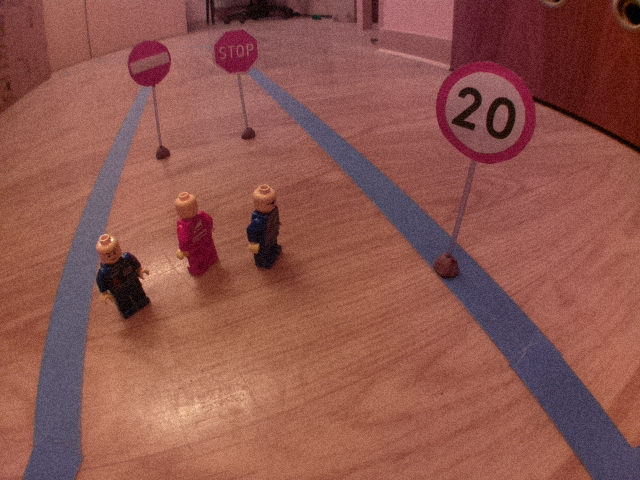LEGO_person: (91, 228, 153, 322), (172, 188, 221, 279), (242, 180, 285, 272)
ogr_20: (433, 57, 539, 168)
stop: (212, 28, 261, 77)
zakaz: (124, 38, 174, 88)
